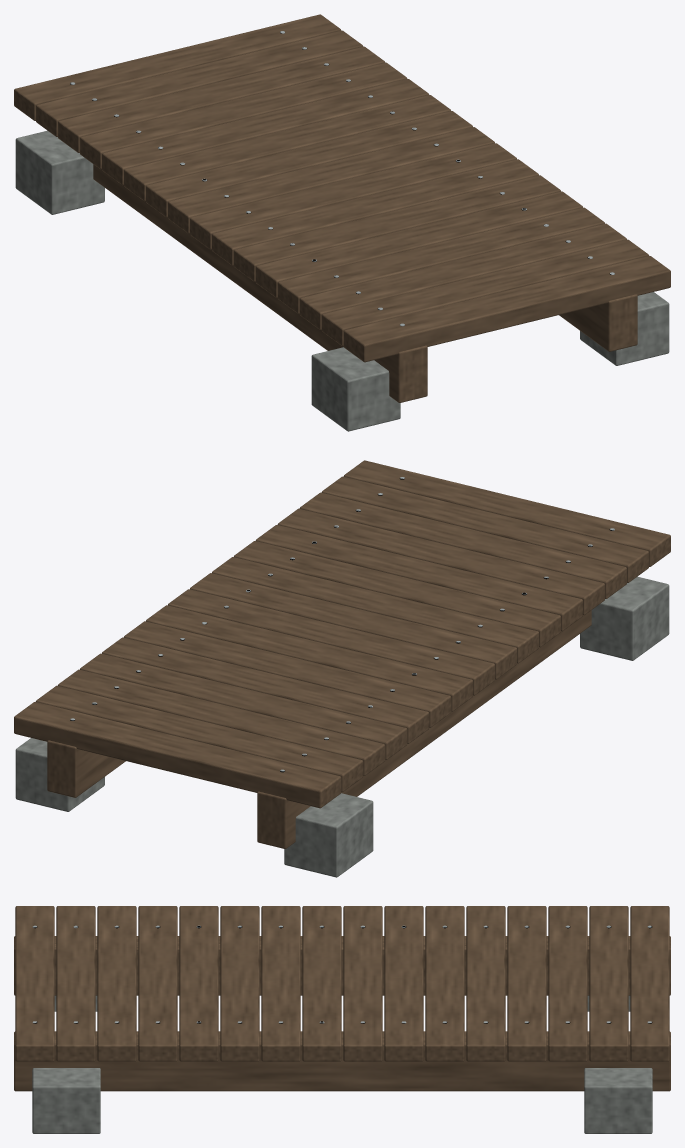
File: GR_Boardwalk_03.glb
3 views of the same model, one above another, from view 1: azimuth 30°, elevation 25°; view 2: azimuth 150°, elevation 25°; view 3: azimuth 270°, elevation 25° (orthographic). The views are drawn at different scales.
Parts seen in each view (by area): view 1: Static; view 2: Static; view 3: Static.
Boxes of the visible parts, <box> form: Static: <box>14,14,670,431</box>; Static: <box>14,460,670,877</box>; Static: <box>14,906,670,1133</box>.
Bounding box in the file's own units: 1.32 × 0.3651 × 2.5.
1 material, 1 textured.
